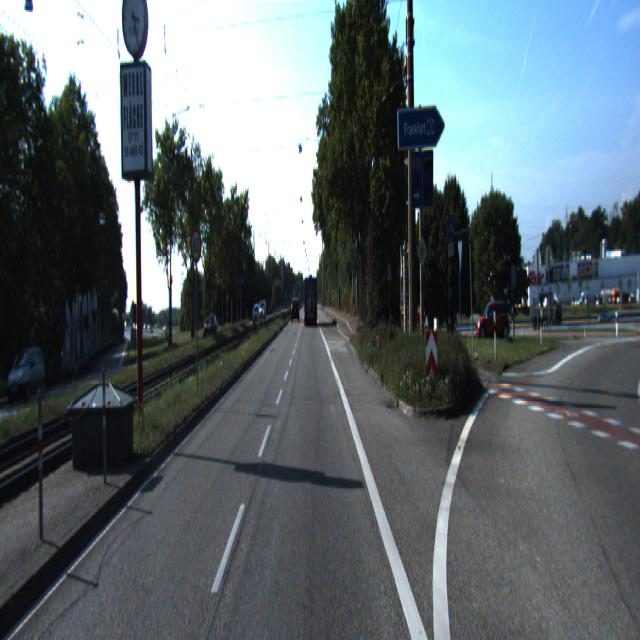Car: (7, 348, 48, 406), (476, 299, 512, 341), (304, 276, 318, 326)
